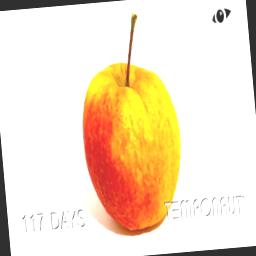Apple Unripe: (70, 0, 189, 238)
